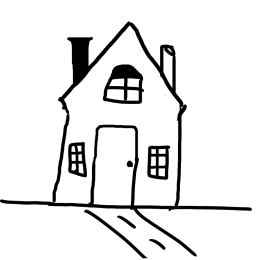chimney: (65, 26, 100, 83), (158, 37, 182, 88)
closed_window: (99, 61, 148, 108), (143, 139, 177, 185), (69, 139, 91, 179)
door: (86, 121, 141, 213)
single_line_roof: (49, 19, 213, 112)
wall: (55, 109, 183, 211)
